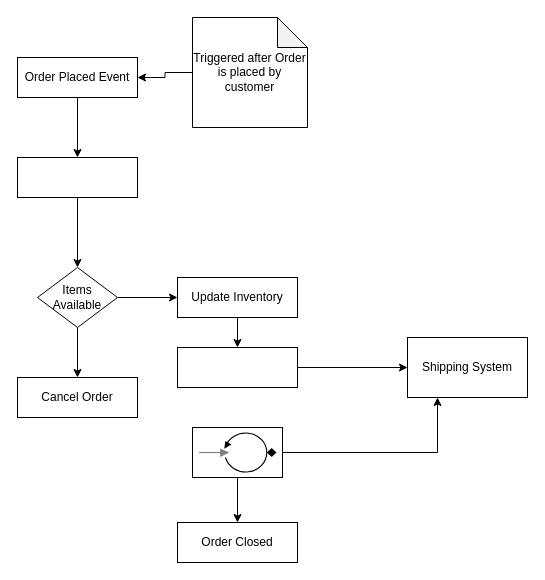
Image size: 545x580. Some labels were removed from this diagram. The shapes that lost their labels are listed below. From the top down, each one's box as (x1, y1, x2, y2) in pixels, then its label:
(16, 156, 138, 198): Check Inventory
(176, 346, 298, 388): Ship Goods
(192, 426, 282, 478): Goods Delivered?
